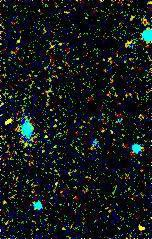star: (124, 211, 152, 239)
